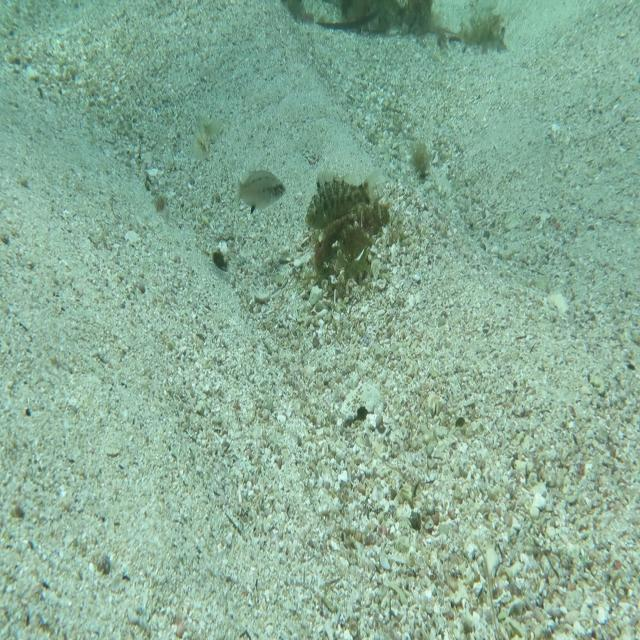BEND_OPP: (299, 164, 382, 233)
female: (232, 162, 289, 216)
nest: (311, 202, 395, 294)
other_fish: (189, 109, 226, 170)
